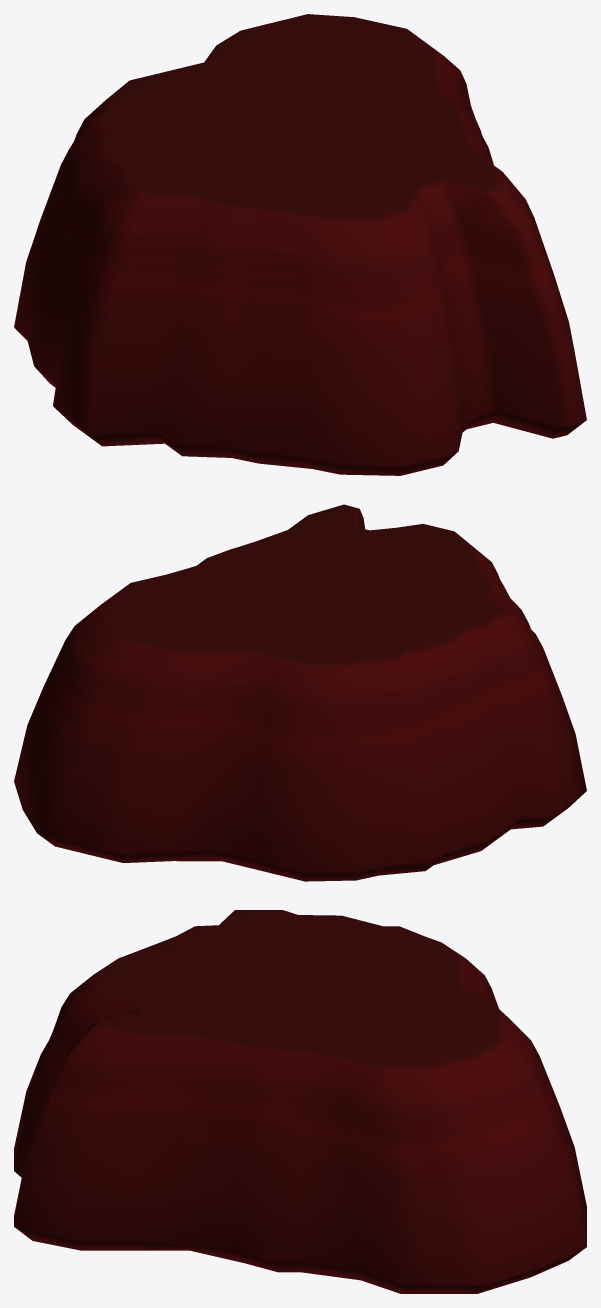
The model's file is geology-landforms-alienplateumedium_v3.fbx.
The picture shows the model from 3 angles, top to bottom: view 1: azimuth 30°, elevation 25°; view 2: azimuth 150°, elevation 25°; view 3: azimuth 270°, elevation 25°; orthographic projection. The views are drawn at different scales.
Visible parts, largest first — view 1: AlienPlateuMedium_v3; view 2: AlienPlateuMedium_v3; view 3: AlienPlateuMedium_v3.
Boxes of the visible parts, bbox=[...] form: AlienPlateuMedium_v3: bbox=[14, 14, 586, 475]; AlienPlateuMedium_v3: bbox=[14, 504, 586, 881]; AlienPlateuMedium_v3: bbox=[14, 910, 586, 1293].
Size of the model in its own units: 51.55 by 21.73 by 55.82.
